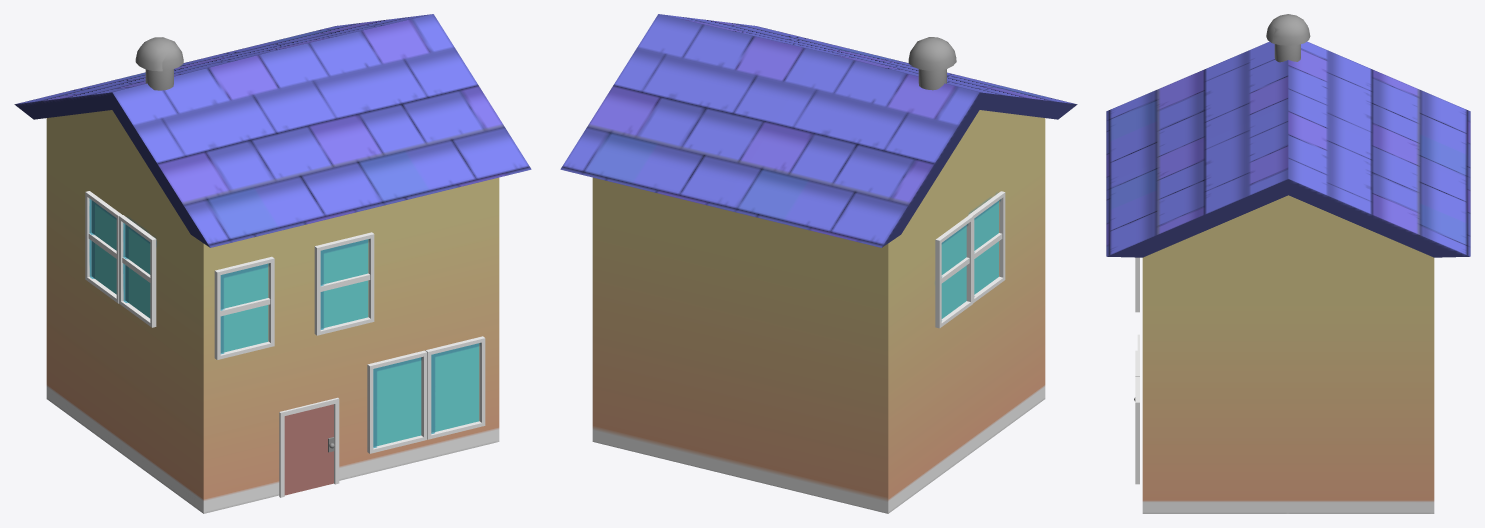
The model's file is house_combined_2_final.fbx.
The picture shows the model from 3 angles, left to right: view 1: azimuth 30°, elevation 25°; view 2: azimuth 150°, elevation 25°; view 3: azimuth 270°, elevation 25°; orthographic projection. The views are drawn at different scales.
Visible parts, largest first — view 1: house_combined_final; view 2: house_combined_final; view 3: house_combined_final.
Part boxes in pixels (box(x1,y1,x2,y2)): house_combined_final: box(14, 14, 531, 513); house_combined_final: box(560, 14, 1077, 513); house_combined_final: box(1106, 14, 1470, 513).
Size of the model in its own units: 25 by 26.43 by 30.39.
Materials: 1 (1 with a texture image).
